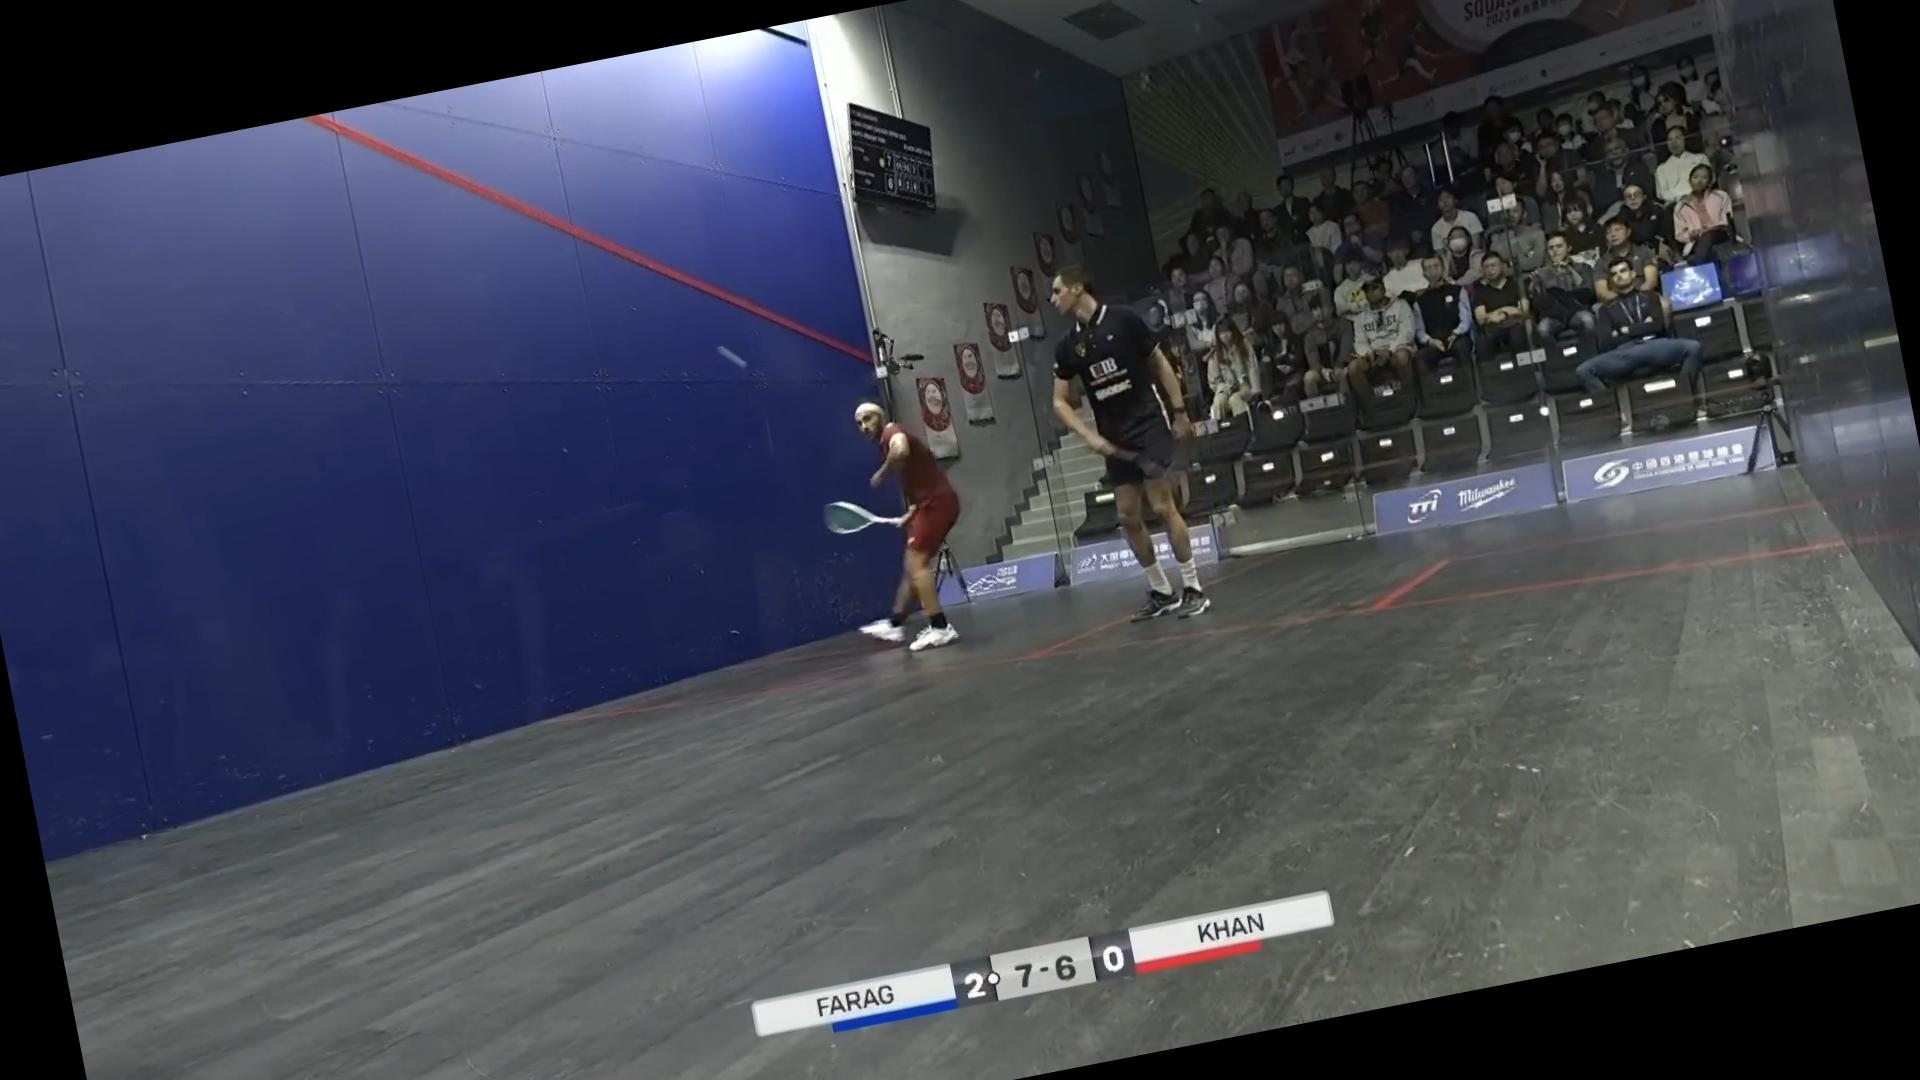Racket: (812, 479, 916, 563)
